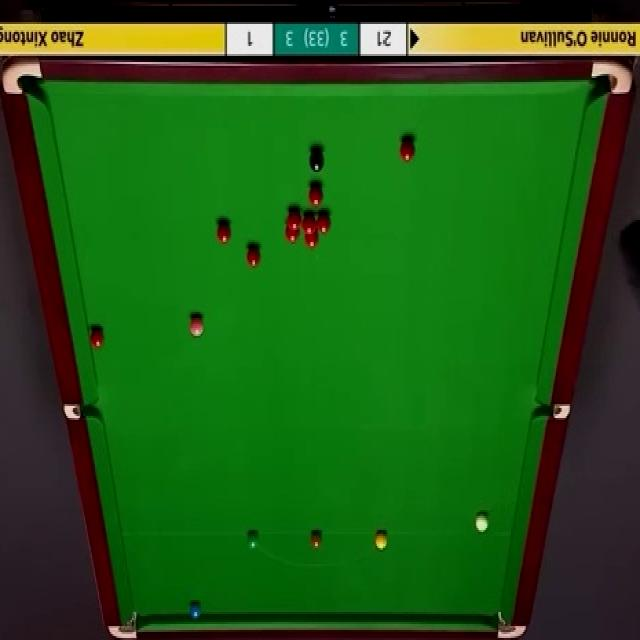pocket: (4, 60, 45, 97), (590, 61, 630, 95), (106, 608, 140, 640), (495, 611, 529, 640), (65, 403, 99, 422), (536, 403, 572, 419)
